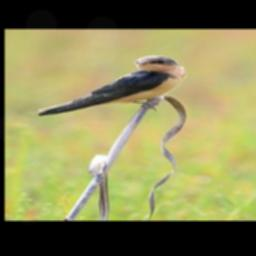Swallow: (21, 52, 188, 119)
